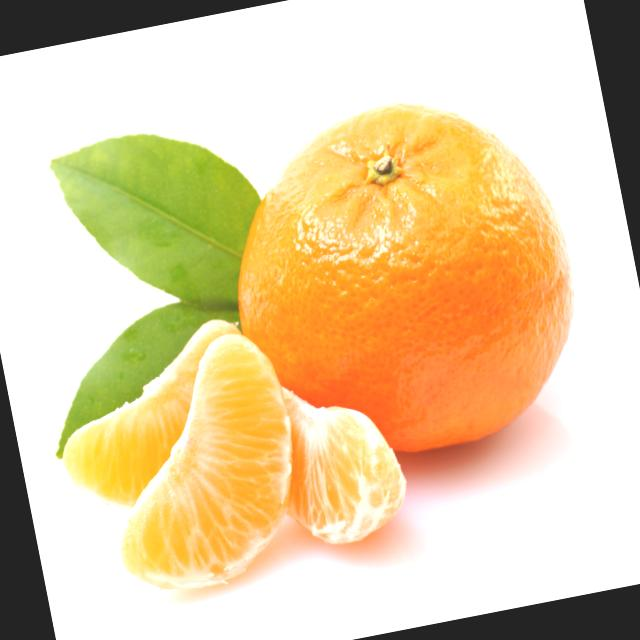orange: (192, 61, 606, 497)
